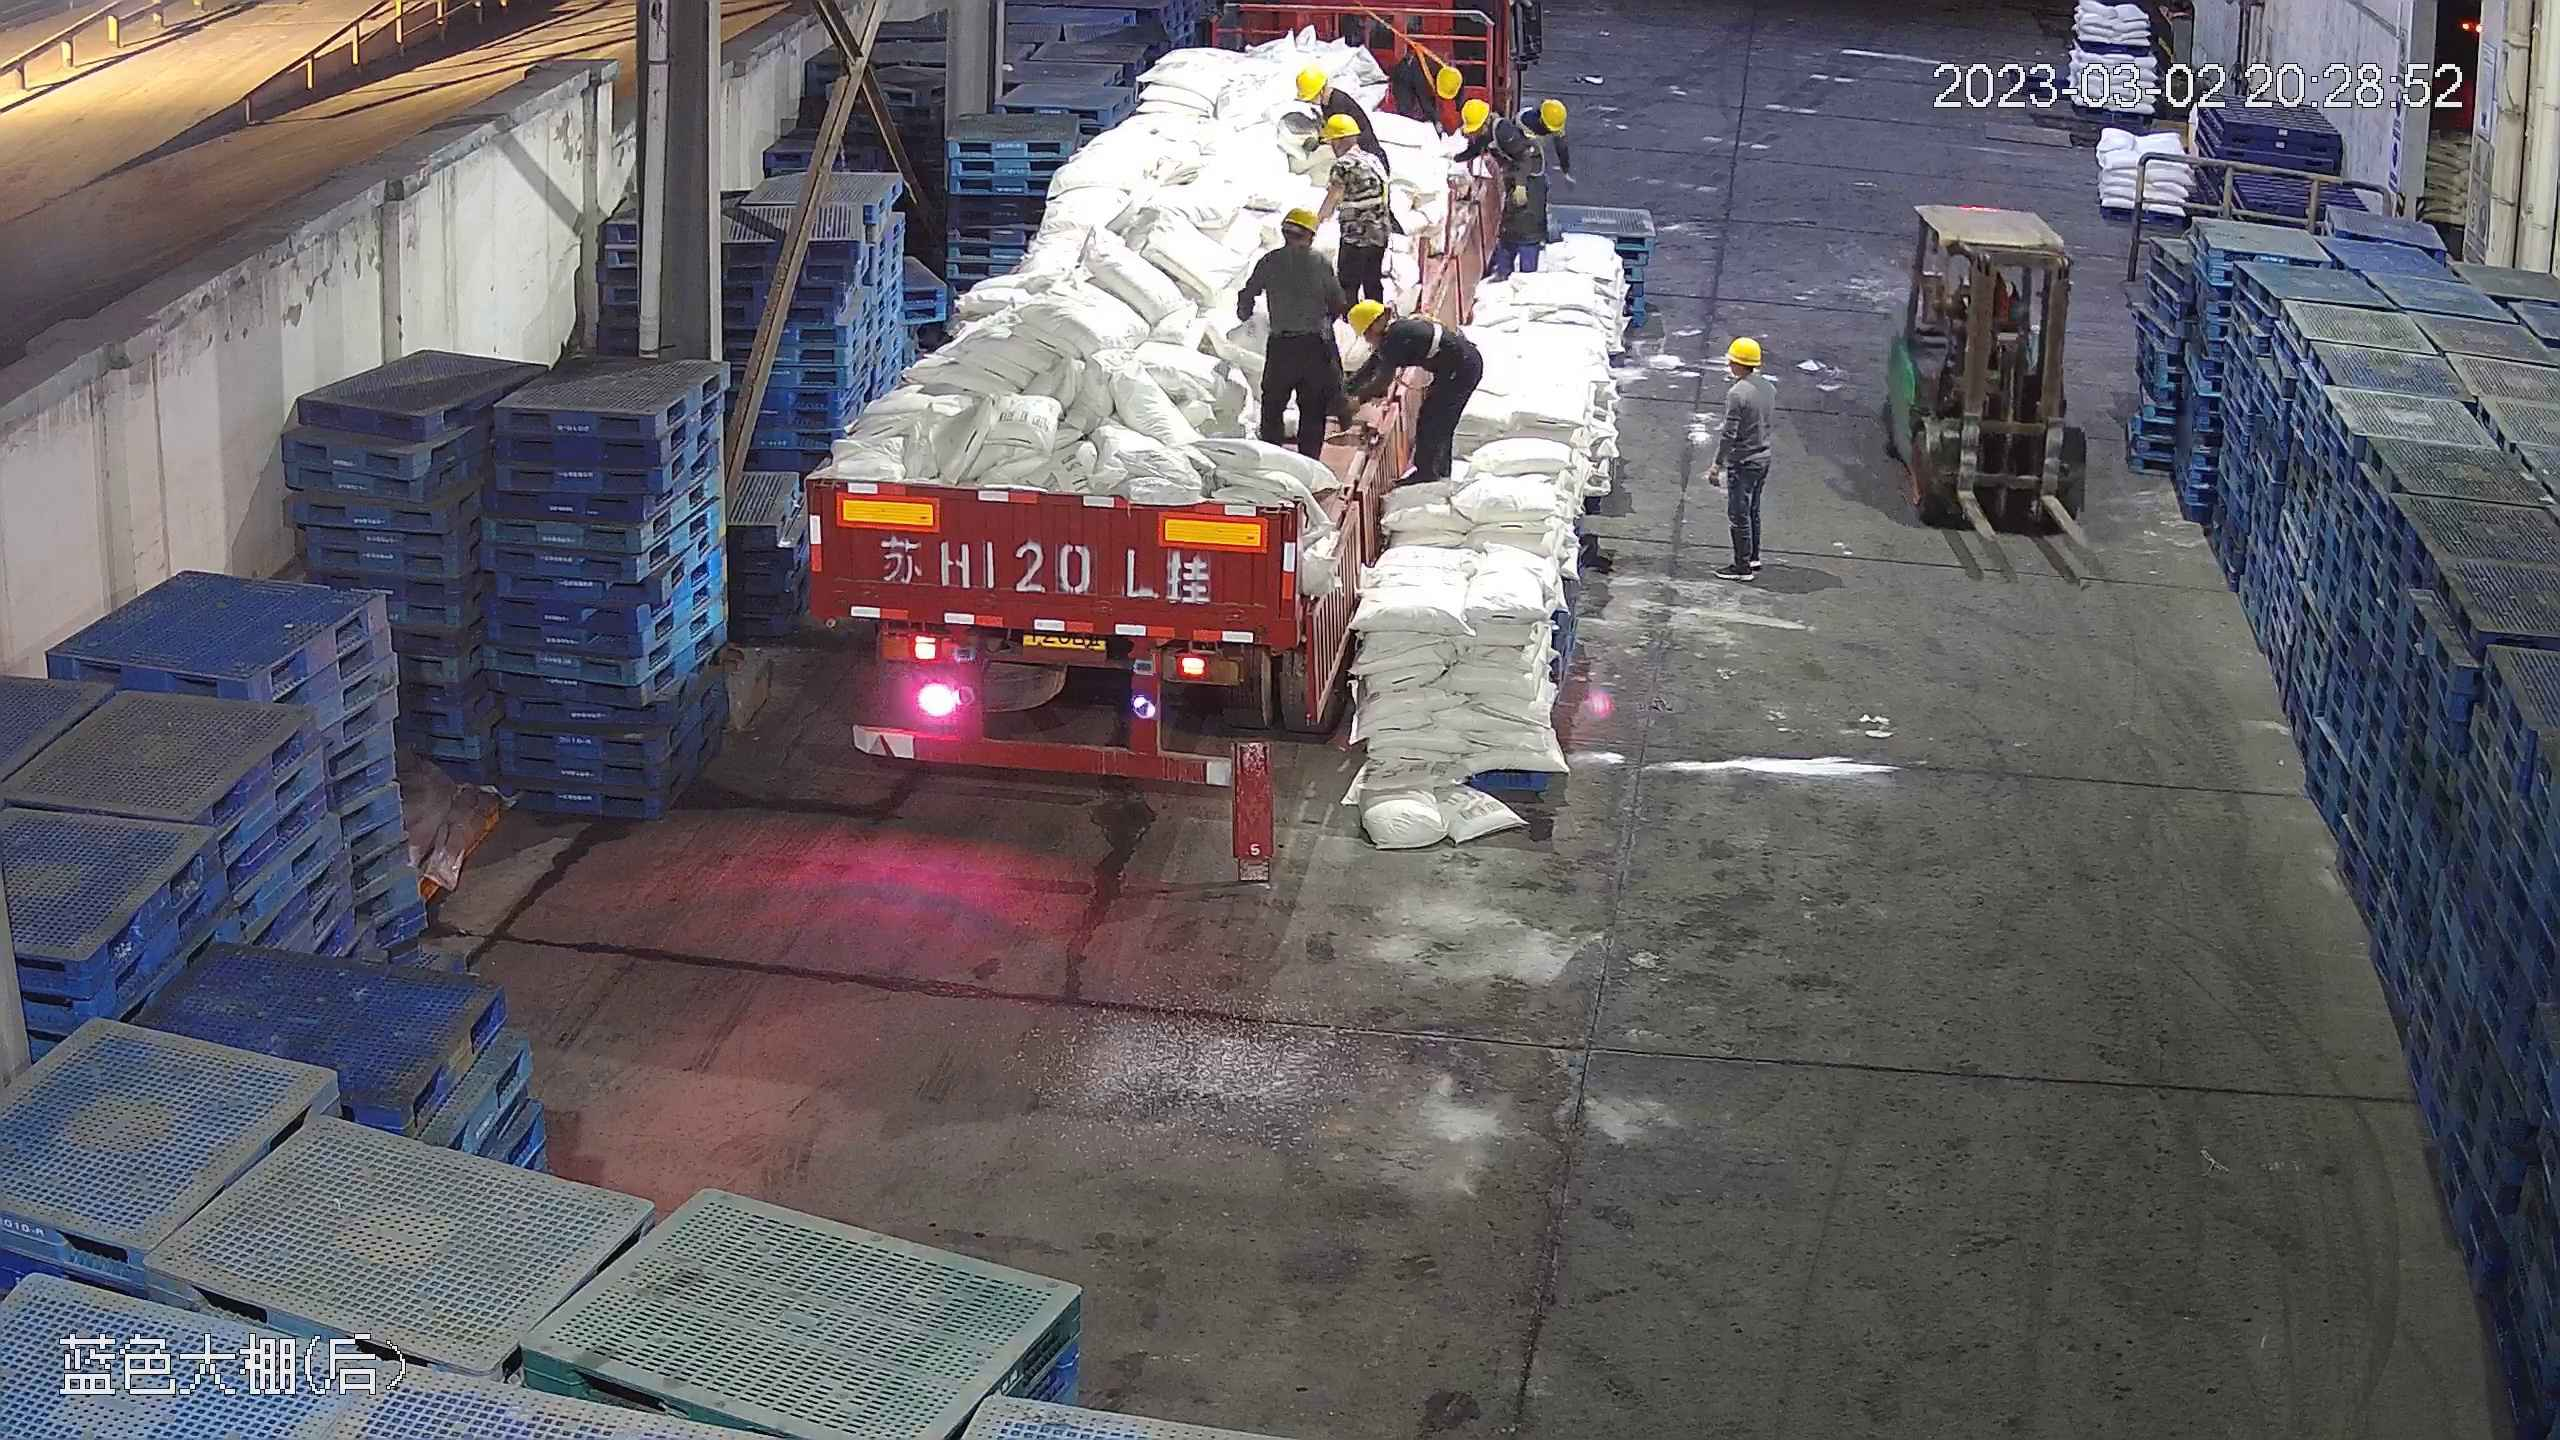belt: (1334, 153, 1394, 217), (1391, 307, 1456, 366), (1494, 123, 1542, 172), (1398, 34, 1444, 76)
head: (1341, 298, 1434, 374), (1250, 205, 1335, 280), (1310, 95, 1389, 172), (1482, 97, 1562, 162), (1712, 336, 1767, 420), (1293, 63, 1345, 115), (1518, 97, 1567, 142)
helmet: (1346, 297, 1390, 340), (1439, 65, 1473, 110), (1460, 94, 1495, 132), (1426, 61, 1463, 97), (1538, 96, 1568, 136), (1281, 206, 1321, 235), (1322, 109, 1362, 138), (1725, 336, 1763, 364), (1296, 64, 1325, 97)
people: (1235, 196, 1342, 460), (1337, 301, 1489, 484), (1458, 93, 1569, 287), (1319, 102, 1401, 335), (1706, 333, 1777, 582)
truck: (778, 1, 1527, 798)
